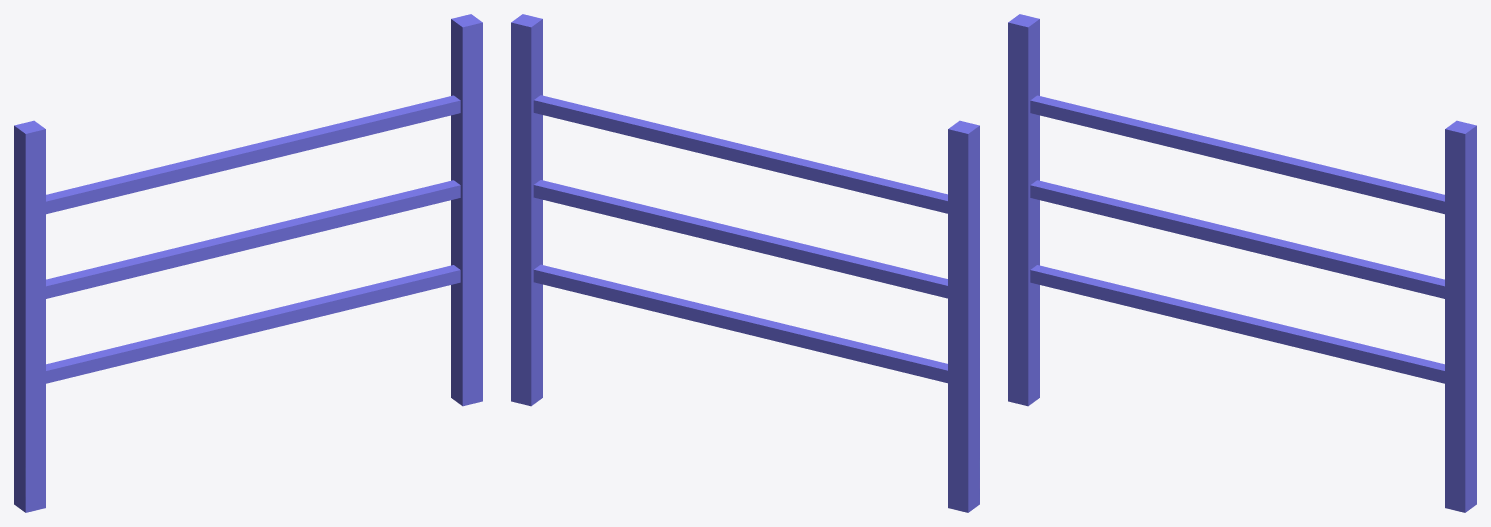
Rendered from barriere_small.fbx.
The picture shows the model from 3 angles, left to right: view 1: azimuth 30°, elevation 25°; view 2: azimuth 150°, elevation 25°; view 3: azimuth 330°, elevation 25°; orthographic projection.
Visible parts, largest first — view 1: DoubleBarriere2; view 2: DoubleBarriere2; view 3: DoubleBarriere2.
Boxes of the visible parts, x1,y1,x2,y2 form: DoubleBarriere2: (14,14,482,512); DoubleBarriere2: (511,14,979,512); DoubleBarriere2: (1008,14,1476,512).
Size of the model in its own units: 1.92 by 1.52 by 0.0843.
1 material, 1 textured.
